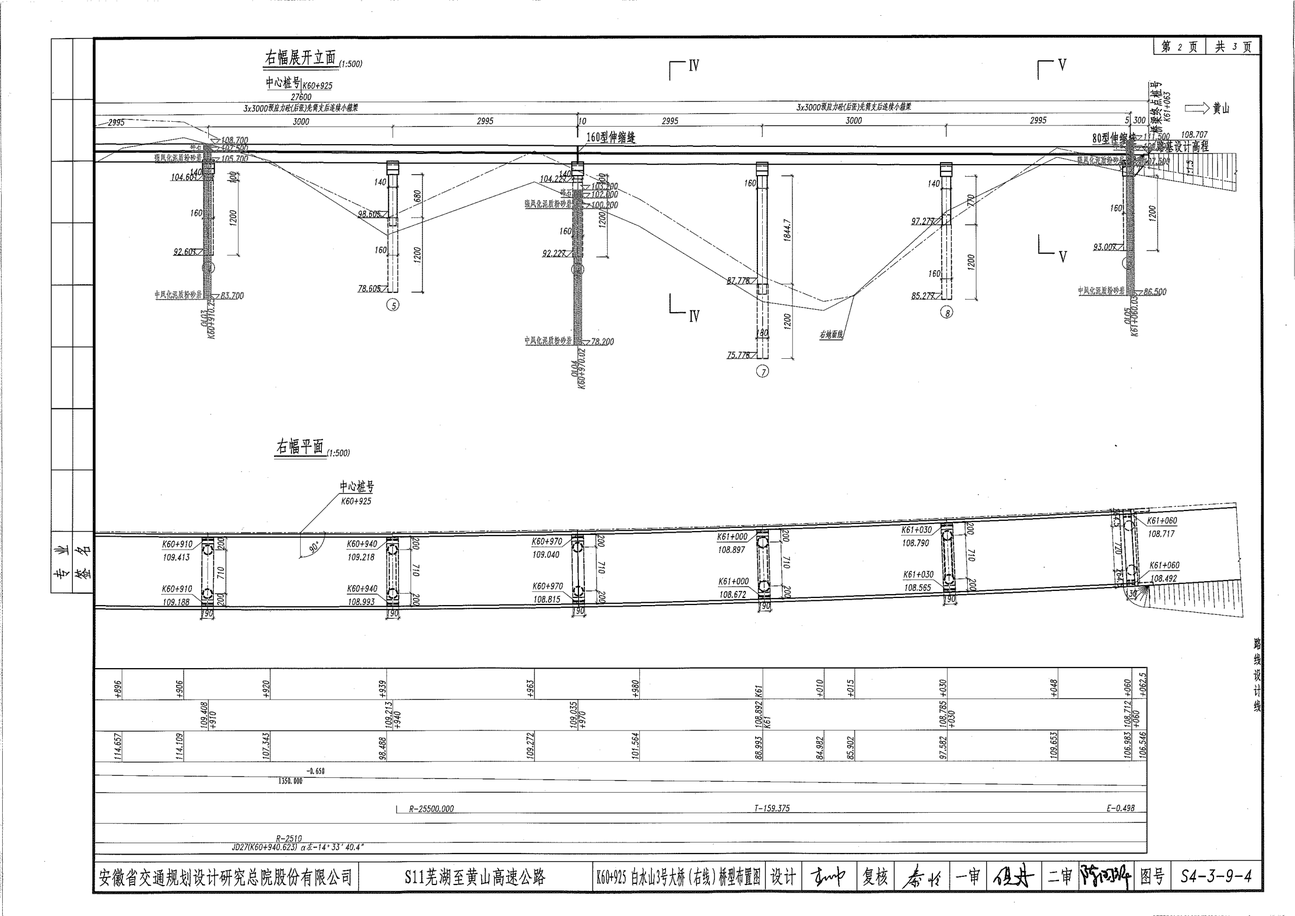A: (84, 46, 1247, 387)
